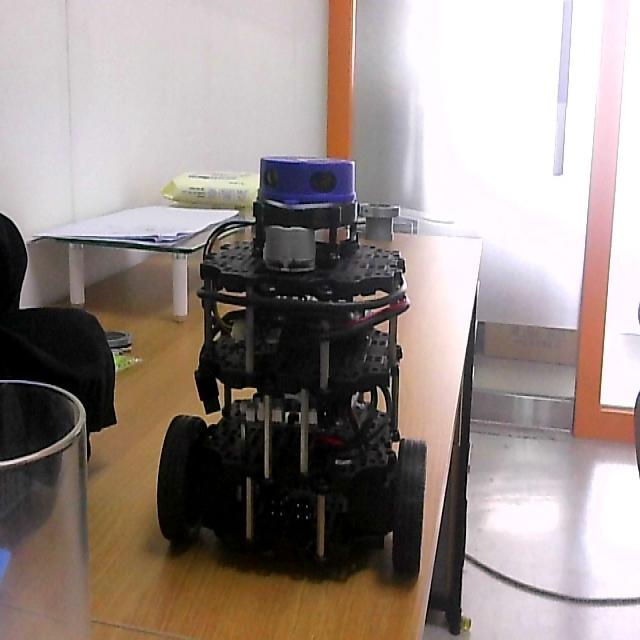turtle: (155, 154, 428, 587)
